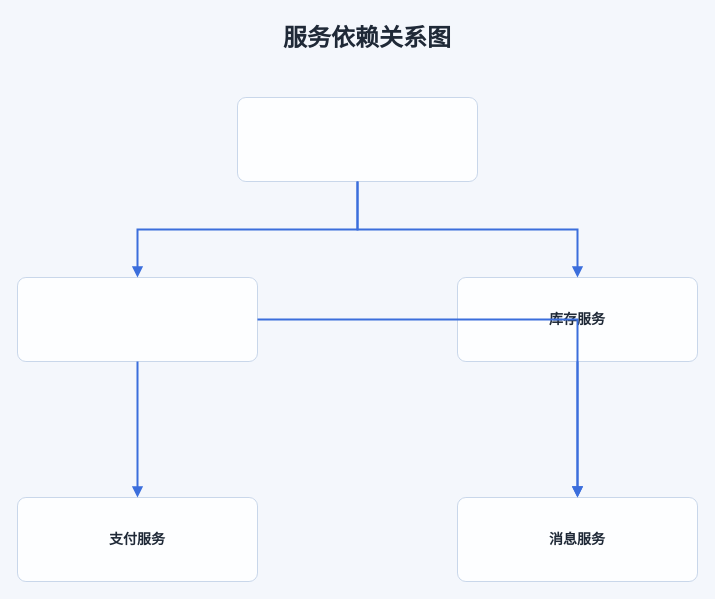
This 715x599 diagram has some shape labels left out. Each missing label, with the box of its shape:
API 网关: (236, 96, 478, 182)
订单服务: (16, 276, 258, 362)
